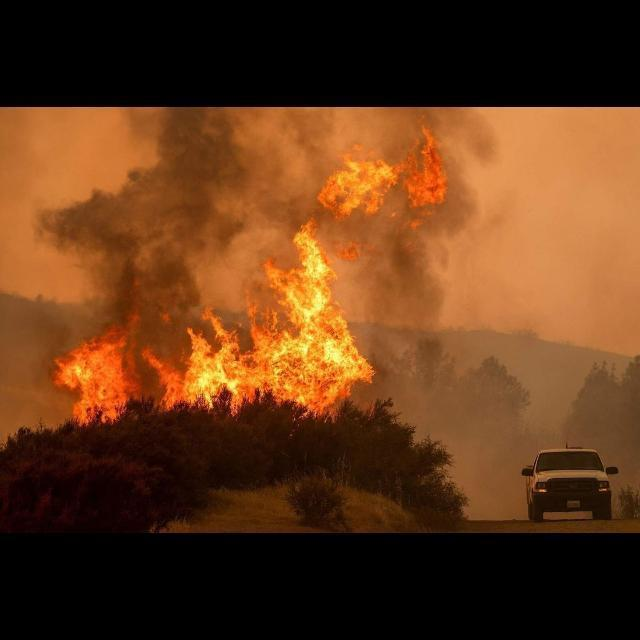Fire: (48, 298, 450, 426), (321, 126, 444, 230), (254, 218, 339, 304)
Smoke: (453, 118, 640, 540), (31, 108, 240, 298), (0, 104, 60, 434), (234, 105, 318, 222), (338, 232, 467, 294)
